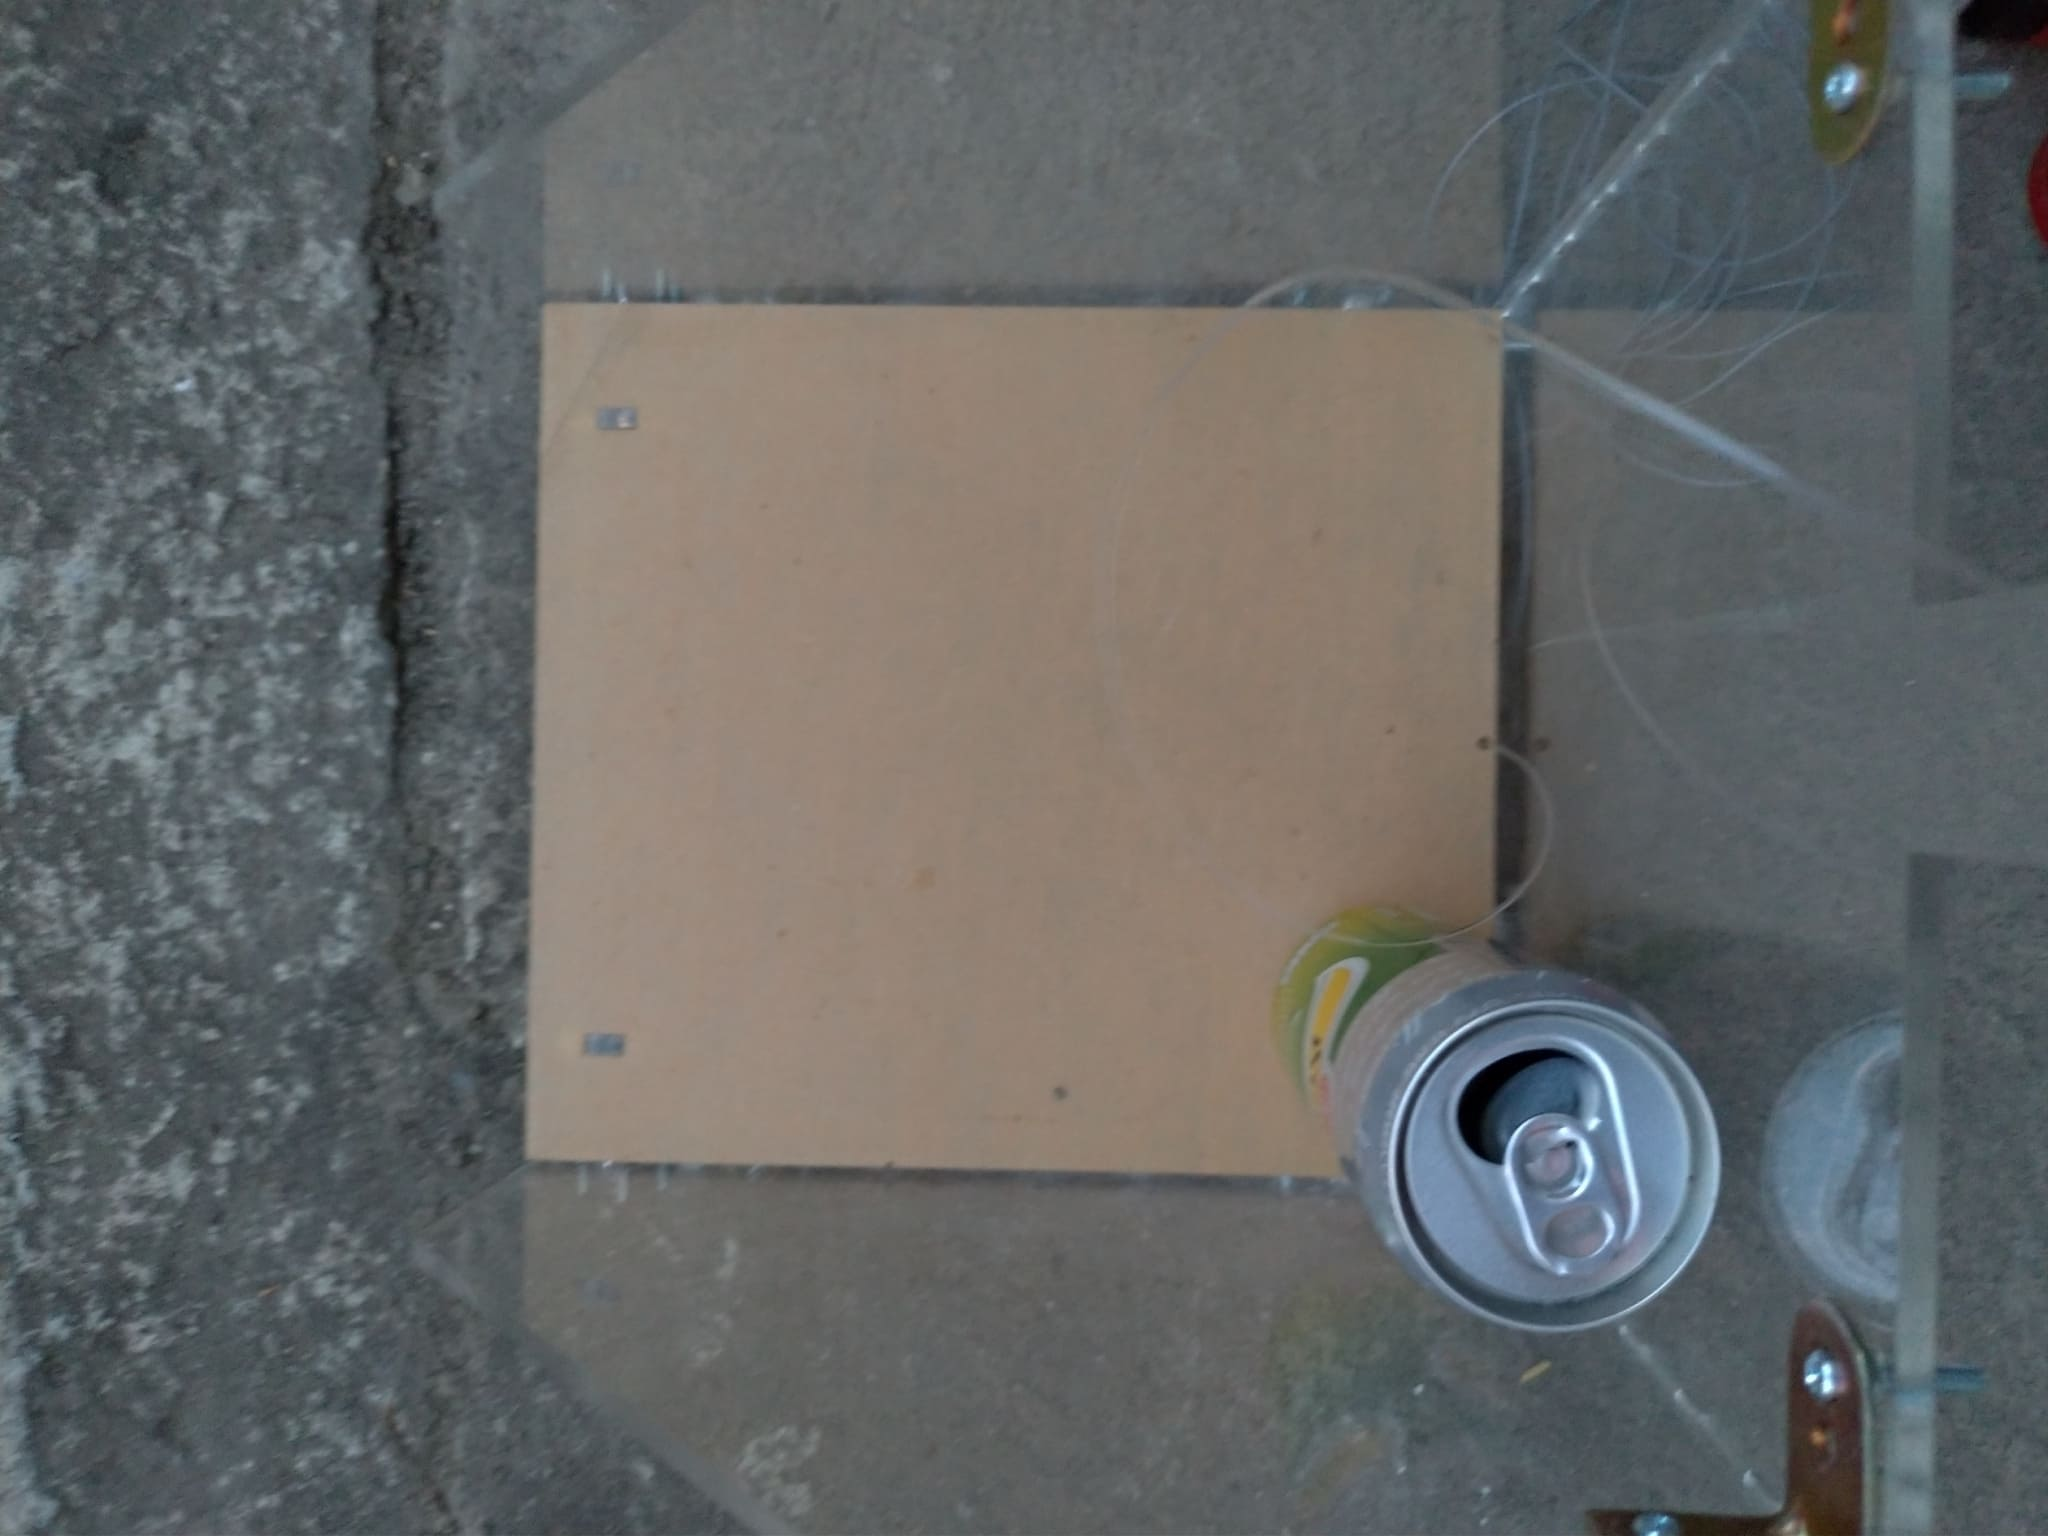AlCan: (1272, 899, 1727, 1338)
